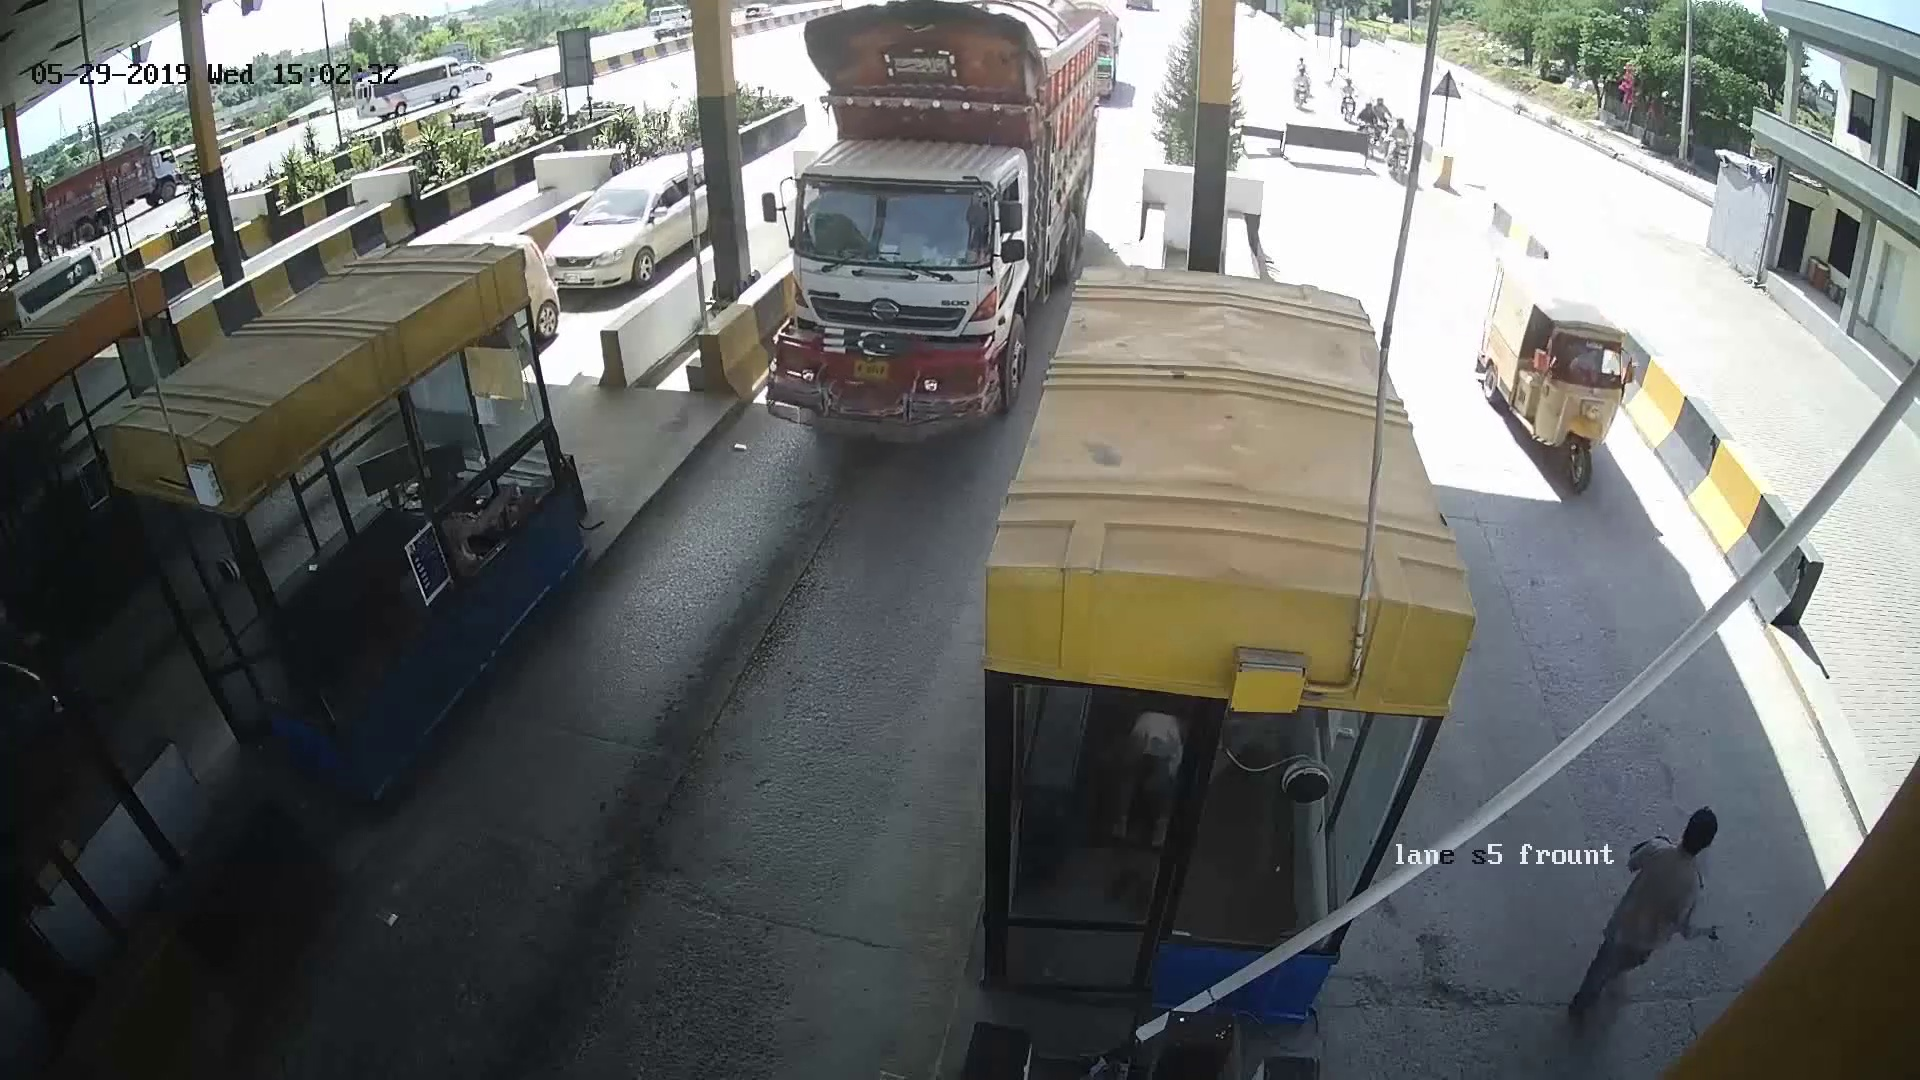truck: (781, 29, 1077, 422)
